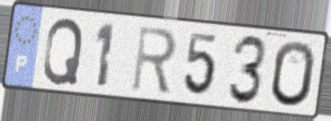1: (94, 22, 115, 90)
3: (227, 33, 268, 107)
5: (180, 32, 222, 98)
O: (269, 39, 317, 110)
Q: (40, 16, 86, 87)
R: (129, 24, 179, 96)
